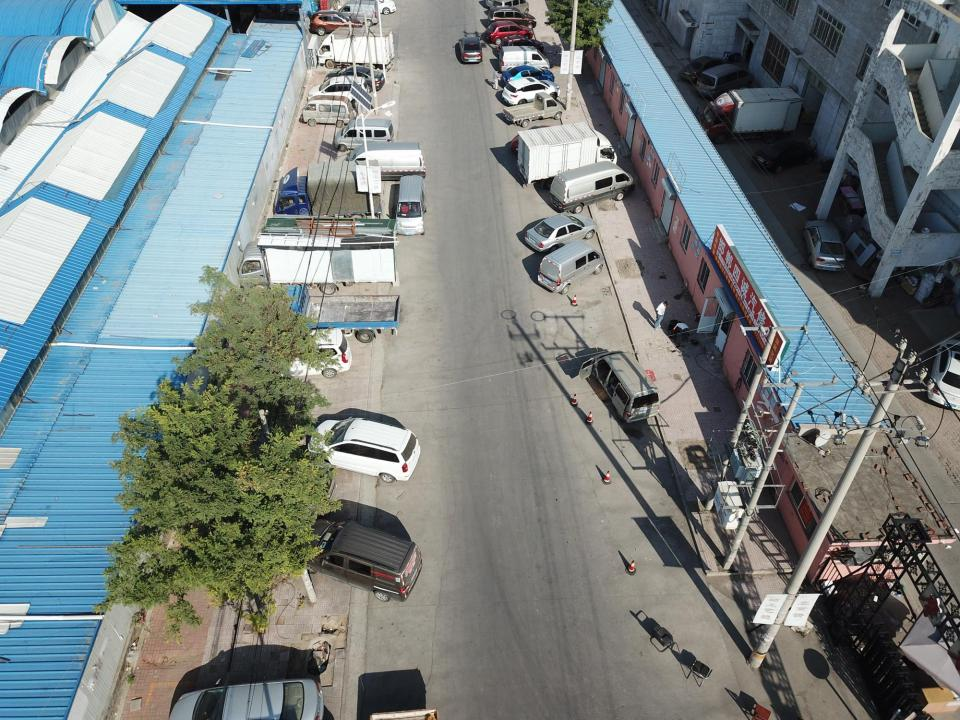car: (302, 518, 416, 602), (307, 419, 421, 484), (167, 678, 323, 720), (524, 213, 598, 254), (927, 338, 960, 411), (802, 220, 845, 272), (752, 140, 815, 173), (696, 63, 754, 97), (308, 76, 370, 107), (502, 76, 560, 106), (323, 67, 385, 93), (309, 10, 363, 36), (485, 20, 533, 44), (501, 65, 555, 86), (487, 7, 536, 30), (497, 34, 544, 56), (680, 56, 723, 80), (458, 37, 482, 64)
truck: (238, 216, 400, 294), (269, 286, 401, 343), (516, 122, 618, 189), (274, 161, 383, 218), (700, 87, 804, 143), (317, 26, 395, 70), (503, 92, 563, 127)
van: (578, 350, 660, 424), (550, 161, 635, 213), (266, 330, 352, 378), (537, 240, 604, 295), (347, 142, 426, 180), (335, 119, 394, 153), (395, 176, 426, 236), (300, 96, 354, 128), (499, 46, 550, 72), (334, 0, 379, 27), (490, 0, 529, 14)
